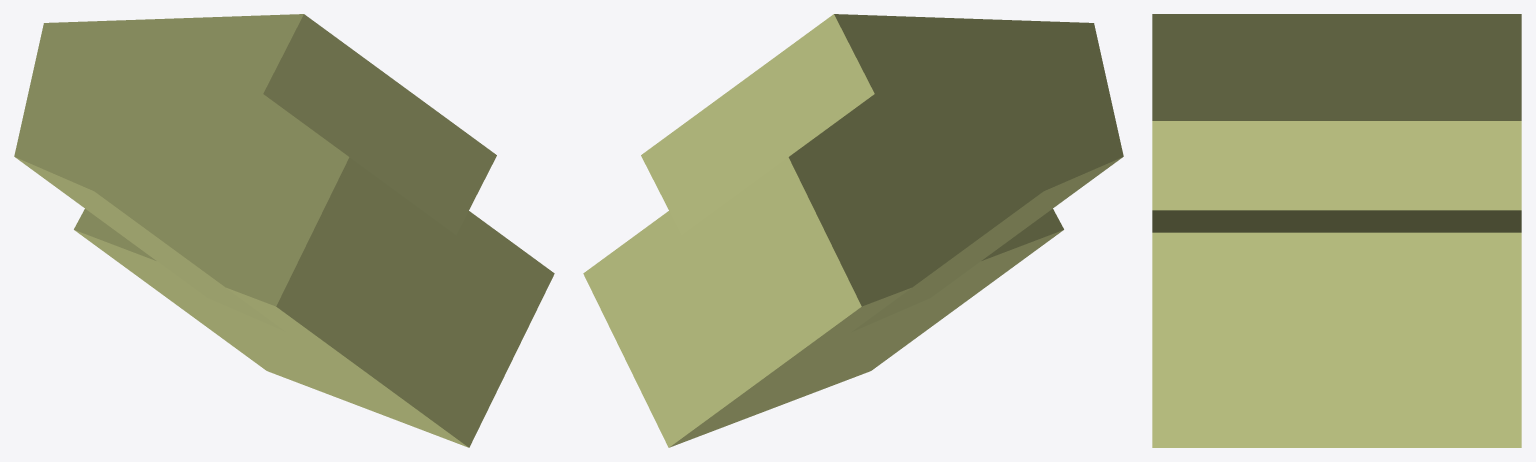
The picture shows the model from 3 angles, left to right: view 1: azimuth 30°, elevation 25°; view 2: azimuth 150°, elevation 25°; view 3: azimuth 270°, elevation 25°; orthographic projection. The views are drawn at different scales.
Visible parts, largest first — view 1: 0_3_0_1_1_1_0_1_2; view 2: 0_3_0_1_1_1_0_1_2; view 3: 0_3_0_1_1_1_0_1_2.
Part boxes in pixels (left/top/right/bottom): 0_3_0_1_1_1_0_1_2: left=14, top=14, right=554, bottom=447; 0_3_0_1_1_1_0_1_2: left=583, top=14, right=1123, bottom=447; 0_3_0_1_1_1_0_1_2: left=1152, top=14, right=1521, bottom=447.
Size of the model in its own units: 9.35 by 8.75 by 9.
